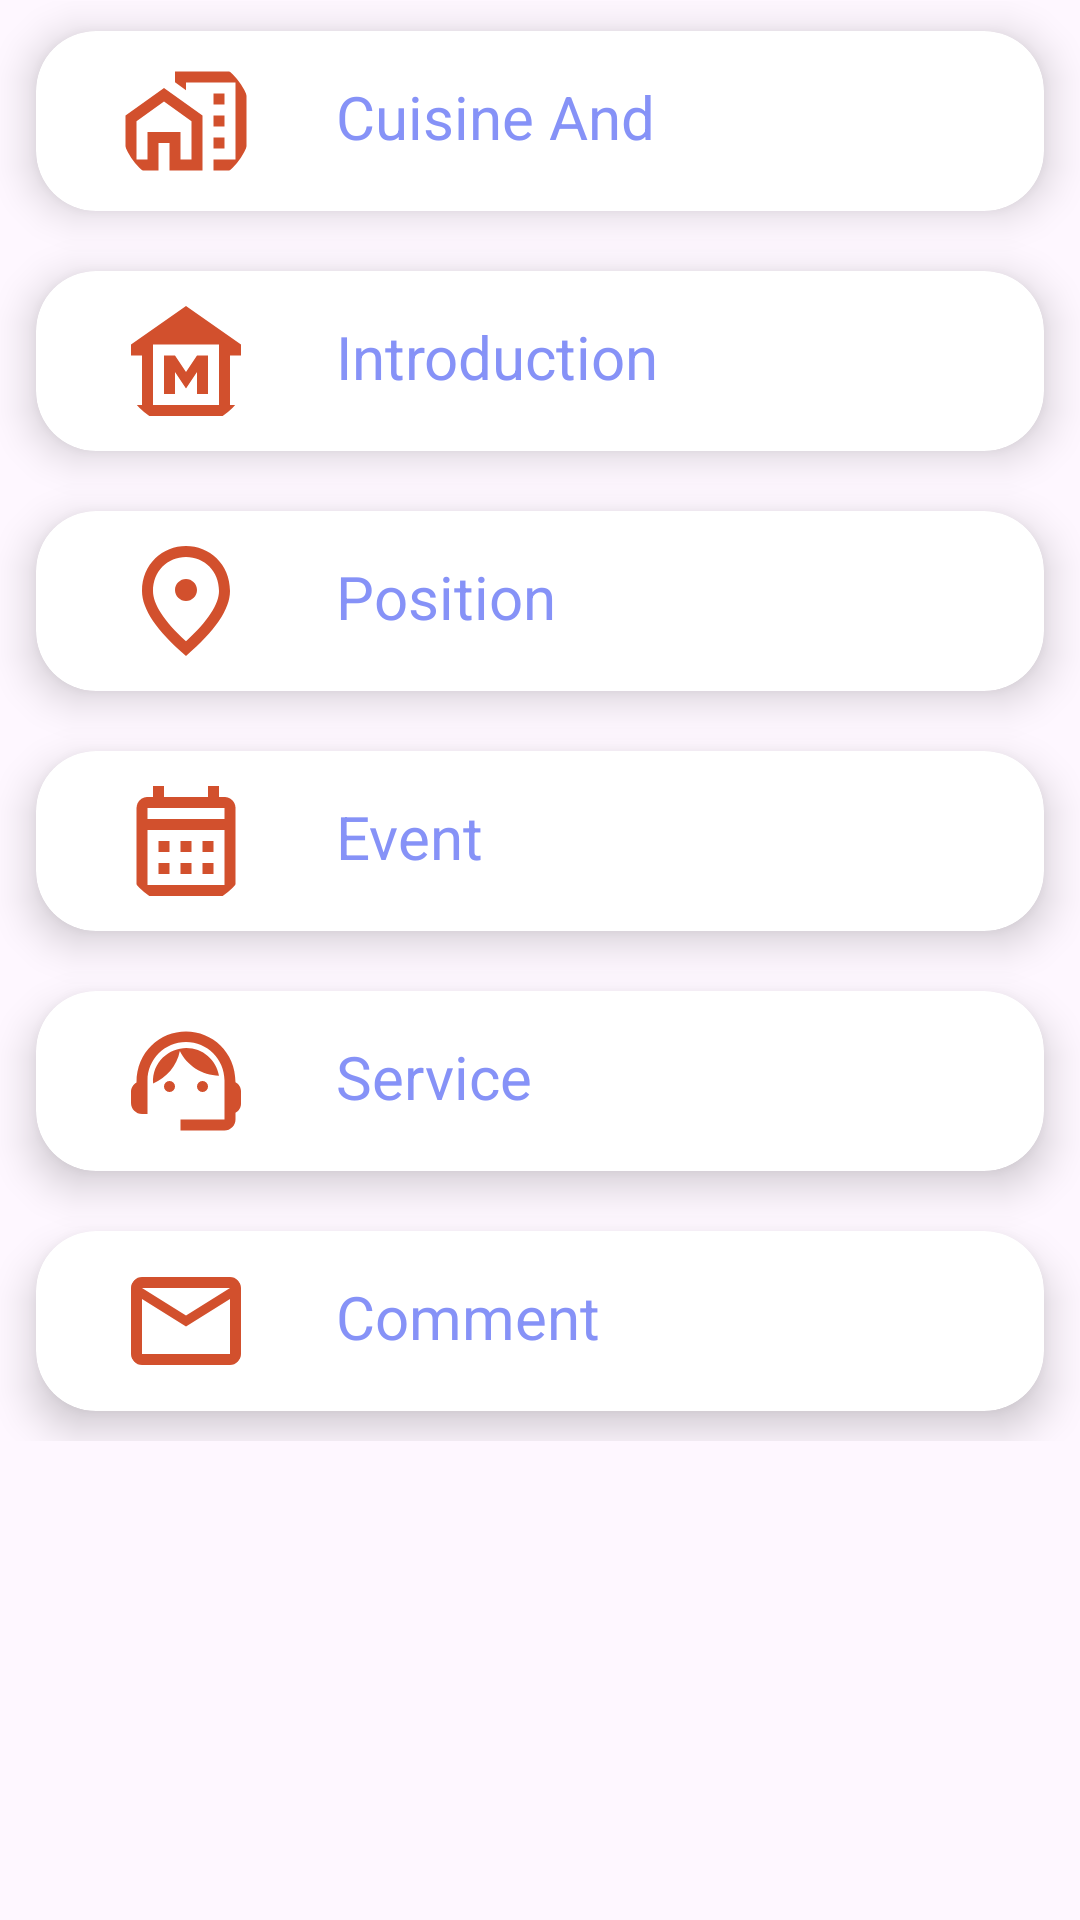

Icons on this 1080x1920 Android screen, each with the point to tap as [x,y]:
accomodation: [186,121]
calender: [186,841]
letter: [186,1321]
museum: [186,361]
place: [186,601]
